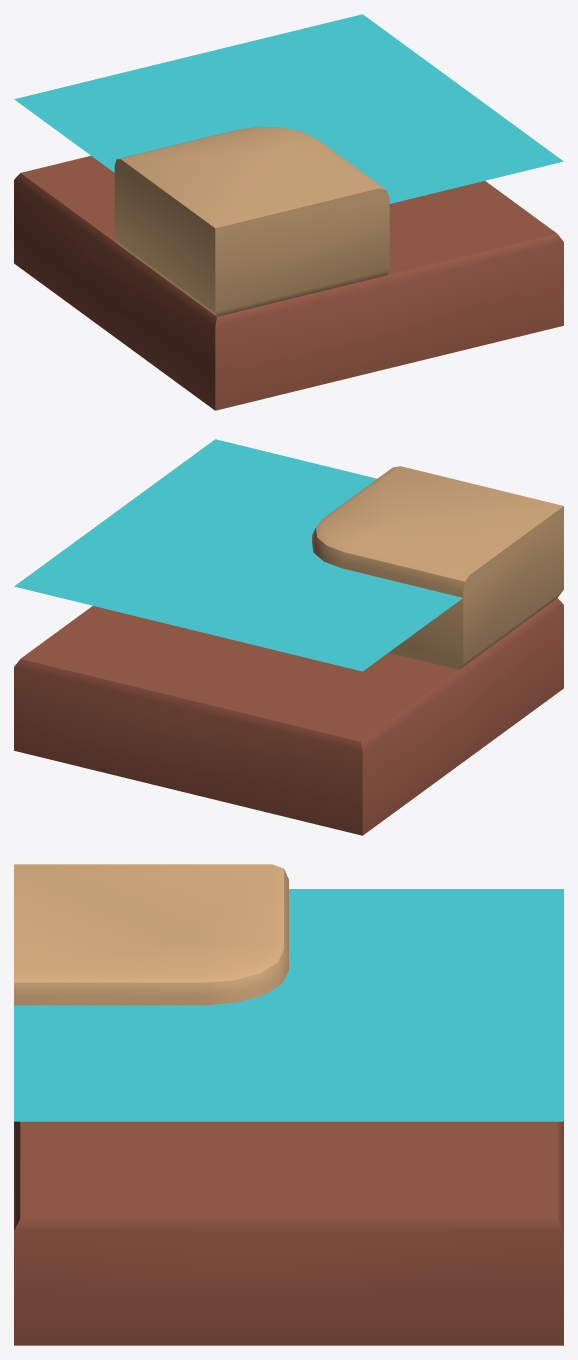
The model's file is kaykit-square-sand-wateroutercorner-nosides.glb.
3 views of the same model, one above another, from view 1: azimuth 30°, elevation 25°; view 2: azimuth 150°, elevation 25°; view 3: azimuth 270°, elevation 25° (orthographic). The views are drawn at different scales.
Visible parts, largest first — view 1: square_sand_waterOuterCorner_noSides; view 2: square_sand_waterOuterCorner_noSides; view 3: square_sand_waterOuterCorner_noSides.
Part boxes in pixels (x1,y1,x2,y2): square_sand_waterOuterCorner_noSides: (14,14,563,410); square_sand_waterOuterCorner_noSides: (14,439,563,835); square_sand_waterOuterCorner_noSides: (14,864,563,1345).
Bounding box in the file's own units: 2 × 0.9998 × 2.
